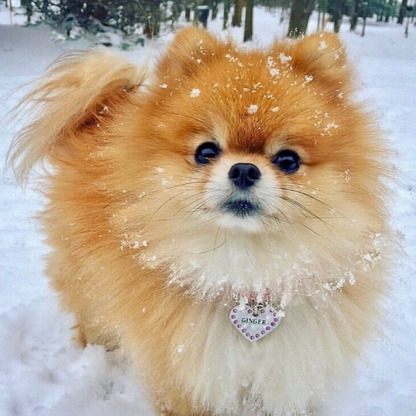Pomeranian: (25, 20, 407, 403)
